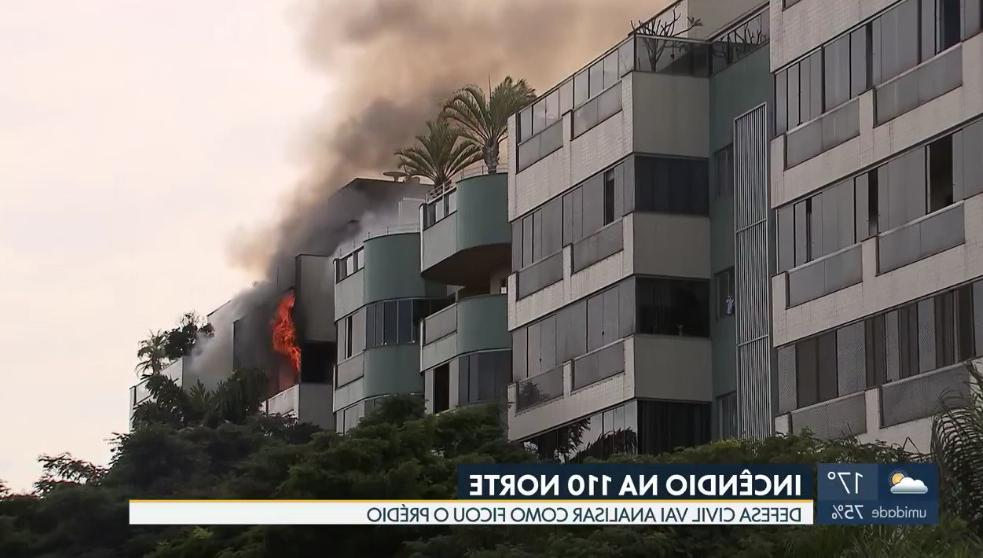Fire: (270, 292, 305, 380)
